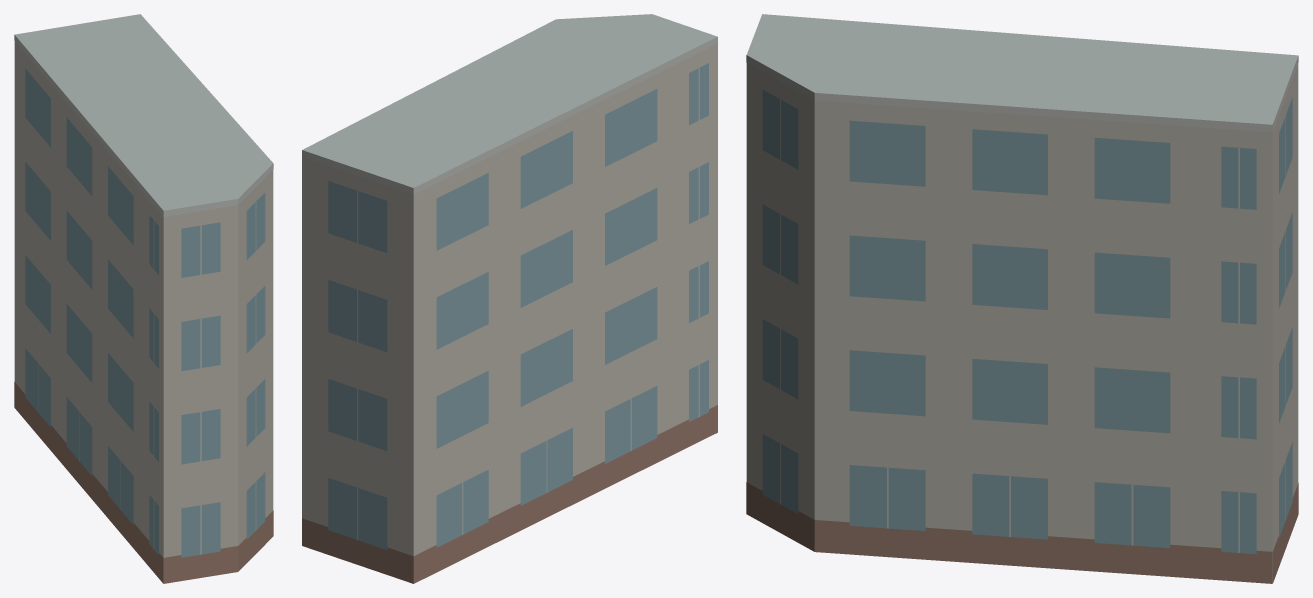
Rendered from survey-upis-32785963.glb.
3 renders of one model, left to right at view 1: azimuth 30°, elevation 25°; view 2: azimuth 150°, elevation 25°; view 3: azimuth 270°, elevation 25°, orthographic. The views are drawn at different scales.
Parts seen in each view (by area): view 1: survey-upis-32785963.tmp; view 2: survey-upis-32785963.tmp; view 3: survey-upis-32785963.tmp.
Boxes of the visible parts, <box> form: survey-upis-32785963.tmp: <box>14,14,273,583</box>; survey-upis-32785963.tmp: <box>302,14,717,583</box>; survey-upis-32785963.tmp: <box>746,14,1298,583</box>.
Size of the model in its own units: 7.67 by 14.8 by 16.13.
